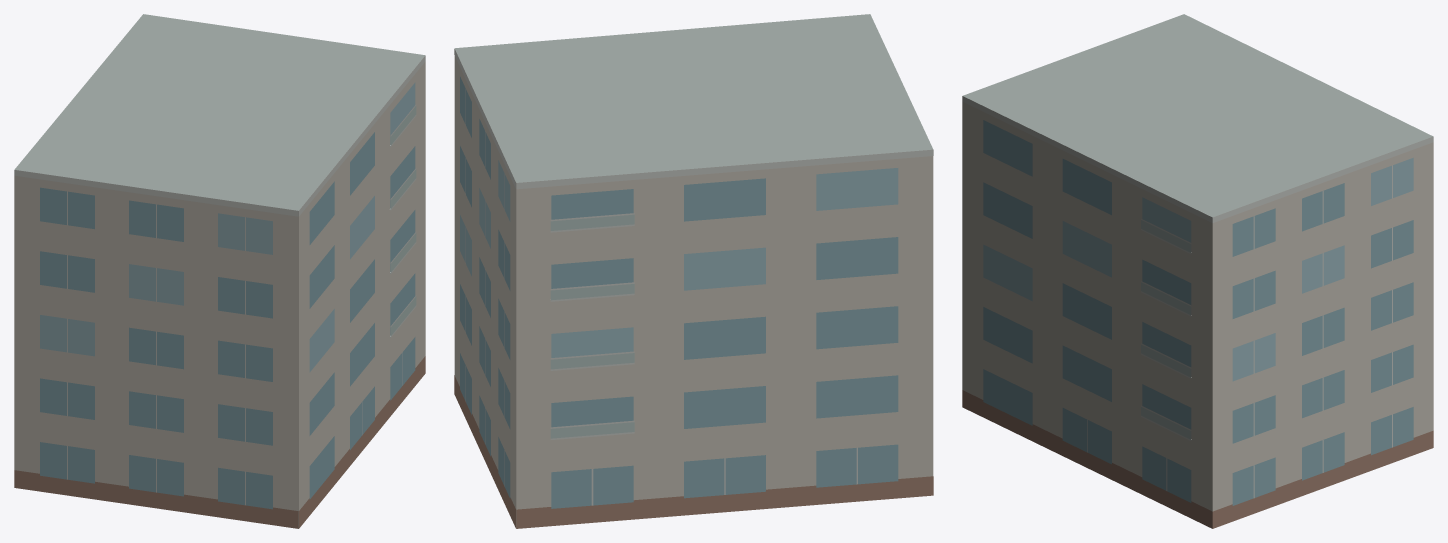
The model's file is survey-upis-32845349.glb.
3 renders of one model, left to right at view 1: azimuth 30°, elevation 25°; view 2: azimuth 150°, elevation 25°; view 3: azimuth 270°, elevation 25°, orthographic. The views are drawn at different scales.
Parts seen in each view (by area): view 1: survey-upis-32845349.tmp; view 2: survey-upis-32845349.tmp; view 3: survey-upis-32845349.tmp.
Boxes of the visible parts, x1=… form: survey-upis-32845349.tmp: x1=14, y1=14, x2=425, y2=528; survey-upis-32845349.tmp: x1=454, y1=14, x2=933, y2=528; survey-upis-32845349.tmp: x1=962, y1=14, x2=1433, y2=528.
Bounding box in the file's own units: 18.58 × 13.25 × 18.18.
